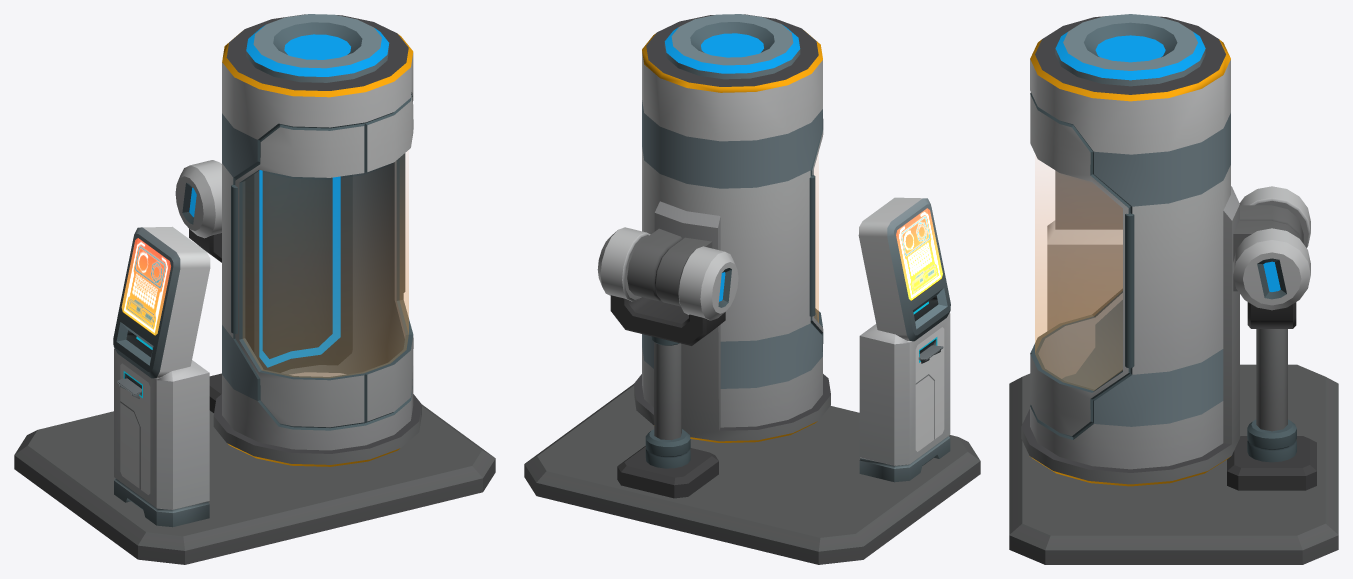
3 views of the same model, side by side, from view 1: azimuth 30°, elevation 25°; view 2: azimuth 150°, elevation 25°; view 3: azimuth 270°, elevation 25° (orthographic). The views are drawn at different scales.
Parts seen in each view (by area): view 1: Сapsule_013_body_001, Сapsule_013, Сapsule_013_door_002, Сapsule_013_door_001; view 2: Сapsule_013, Сapsule_013_body_001, Сapsule_013_door_002; view 3: Сapsule_013_body_001, Сapsule_013, Сapsule_013_door_001, Сapsule_013_door_002.
Boxes of the visible parts, x1,y1,x2,y2 form: Сapsule_013_body_001: (213,14,421,466); Сapsule_013: (14,160,495,564); Сapsule_013_door_002: (235,123,364,427); Сapsule_013_door_001: (362,95,413,422); Сapsule_013: (524,197,980,564); Сapsule_013_body_001: (627,14,830,442); Сapsule_013_door_002: (810,113,823,351); Сapsule_013_body_001: (1021,14,1303,486); Сapsule_013: (1009,170,1338,564); Сapsule_013_door_001: (1030,93,1130,437); Сapsule_013_door_002: (1030,92,1122,378).
Size of the model in its own units: 2.68 by 3.11 by 2.05.
4 materials, 4 textured.
